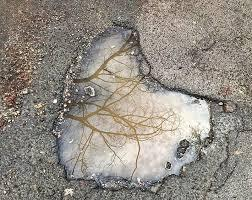pothole: (51, 20, 222, 194)
